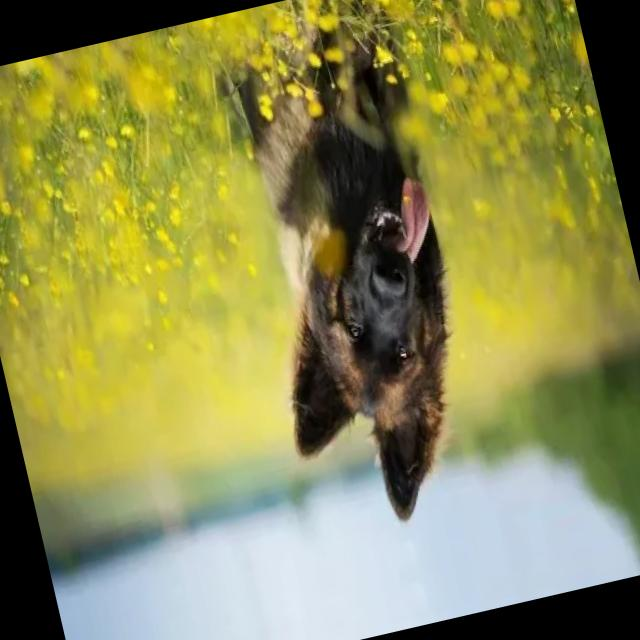Dog: (199, 0, 504, 542)
